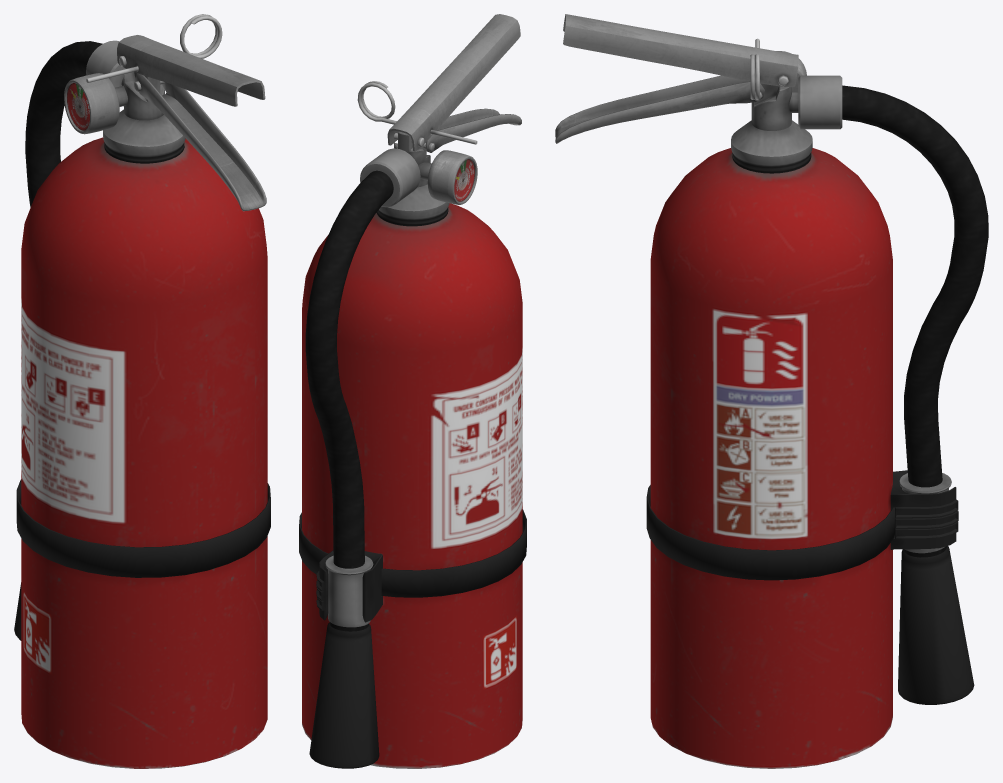
File: extintor.glb
3 views of the same model, side by side, from view 1: azimuth 30°, elevation 25°; view 2: azimuth 150°, elevation 25°; view 3: azimuth 270°, elevation 25° (orthographic). The views are drawn at different scales.
Parts seen in each view (by area): view 1: Canister_, Belt_, Hose_, Lever_Bottom_, Lever_Top_, Pin_, Pressure_Gauge_Glass_; view 2: Canister_, Hose_, Lever_Top_, Belt_, Holster_, Lever_Bottom_, Pin_, Pressure_Gauge_Glass_; view 3: Canister_, Hose_, Belt_, Lever_Top_, Lever_Bottom_, Holster_.
Boxes of the visible parts, x1,y1,x2,y2 form: Canister_: (21, 68, 267, 768); Belt_: (16, 479, 270, 577); Hose_: (14, 40, 125, 640); Lever_Bottom_: (135, 73, 266, 211); Lever_Top_: (117, 35, 265, 106); Pin_: (86, 14, 222, 82); Pressure_Gauge_Glass_: (67, 83, 89, 130); Canister_: (302, 131, 522, 768); Hose_: (305, 148, 420, 768); Lever_Top_: (387, 14, 520, 151); Belt_: (299, 509, 526, 597); Holster_: (316, 550, 382, 622); Lever_Bottom_: (425, 108, 521, 152); Pin_: (357, 81, 477, 144); Pressure_Gauge_Glass_: (454, 159, 474, 201); Canister_: (650, 51, 892, 768); Hose_: (789, 75, 988, 704); Belt_: (646, 485, 894, 580); Lever_Top_: (563, 14, 798, 87); Lever_Bottom_: (555, 75, 764, 143); Holster_: (890, 470, 958, 549).
Bounding box in the file's own units: 1.78 × 5.49 × 3.08.
1 material, 1 textured.
